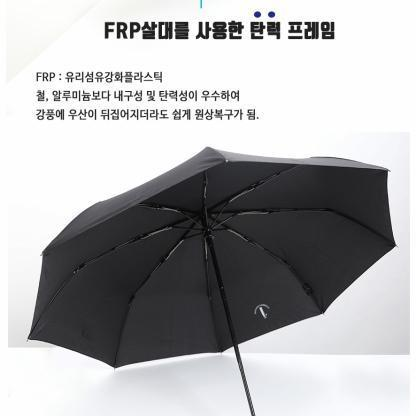Umbrella: (0, 117, 416, 415)
